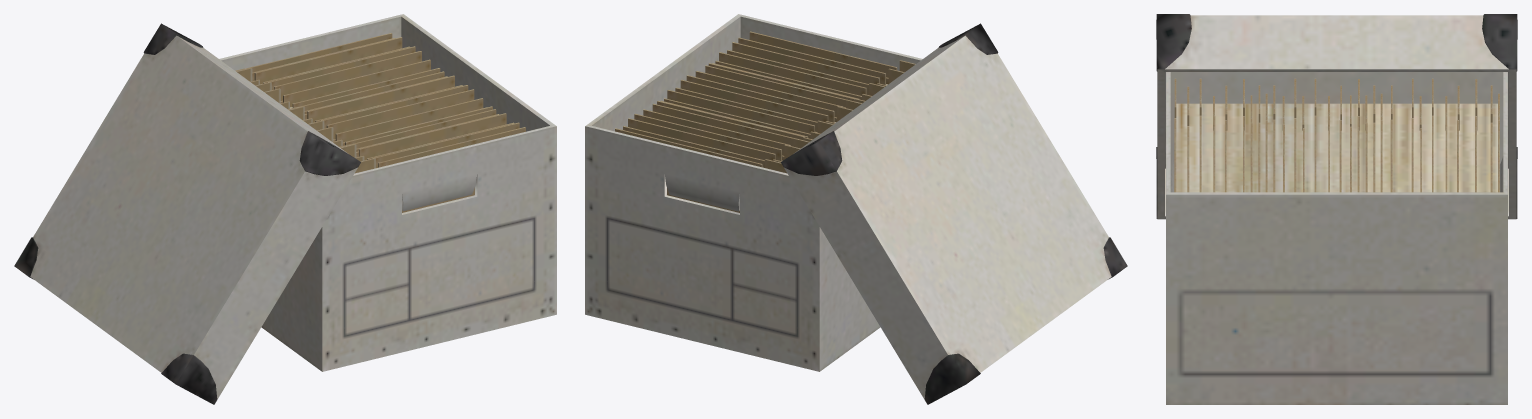
Rendered from 055_bankersbox01a.fbx.
3 views of the same model, side by side, from view 1: azimuth 30°, elevation 25°; view 2: azimuth 150°, elevation 25°; view 3: azimuth 270°, elevation 25° (orthographic). The views are drawn at different scales.
Visible parts, largest first — view 1: LOD_1_Group_0_Sub_1__sm36_055_BankersBox01A_A_Mat; view 2: LOD_1_Group_0_Sub_1__sm36_055_BankersBox01A_A_Mat; view 3: LOD_1_Group_0_Sub_1__sm36_055_BankersBox01A_A_Mat.
Boxes of the visible parts, <box> form: LOD_1_Group_0_Sub_1__sm36_055_BankersBox01A_A_Mat: <box>14,14,556,404</box>; LOD_1_Group_0_Sub_1__sm36_055_BankersBox01A_A_Mat: <box>585,14,1127,404</box>; LOD_1_Group_0_Sub_1__sm36_055_BankersBox01A_A_Mat: <box>1156,14,1517,404</box>.
Size of the model in its own units: 0.5666 by 0.3327 by 0.4122.
